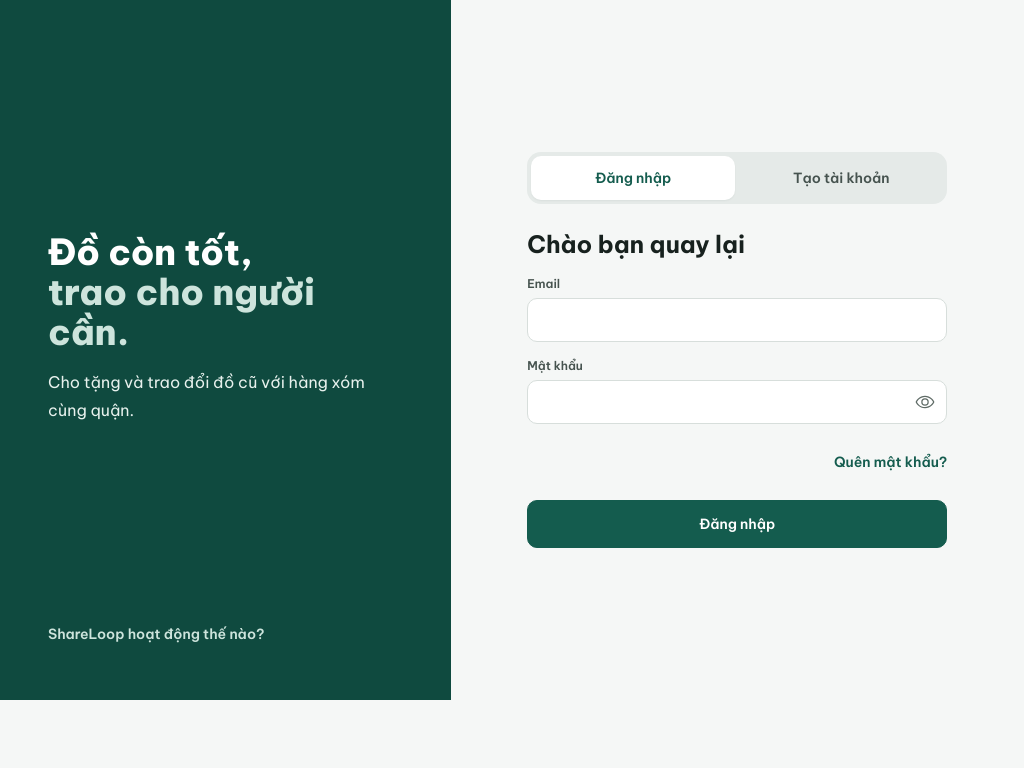
Test: đăng nhập Admin › giữ nguyên màn đăng nhập và kết thúc processing khi xác thực thất bại
Type "admin@shareloop.vn" into the field labelled "Email" at point(737, 320), box x1=527 y1=298 x2=947 y2=342
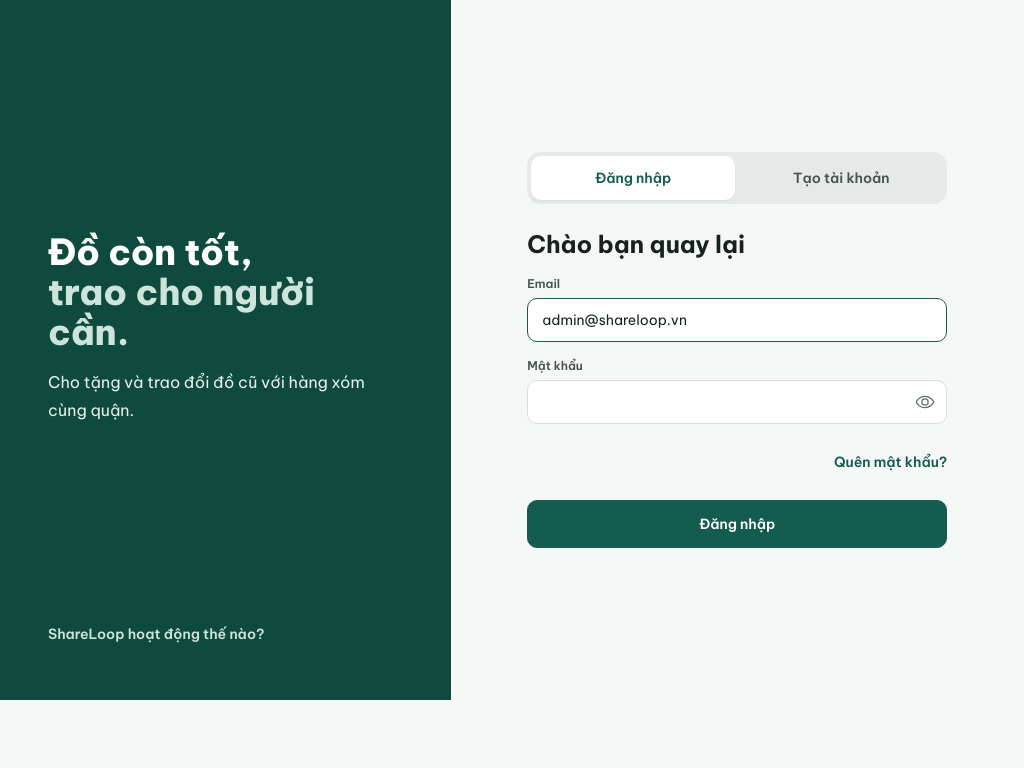
Type "wrong-password" into the password field labelled "Mật khẩu" at point(737, 402), box x1=527 y1=380 x2=947 y2=424
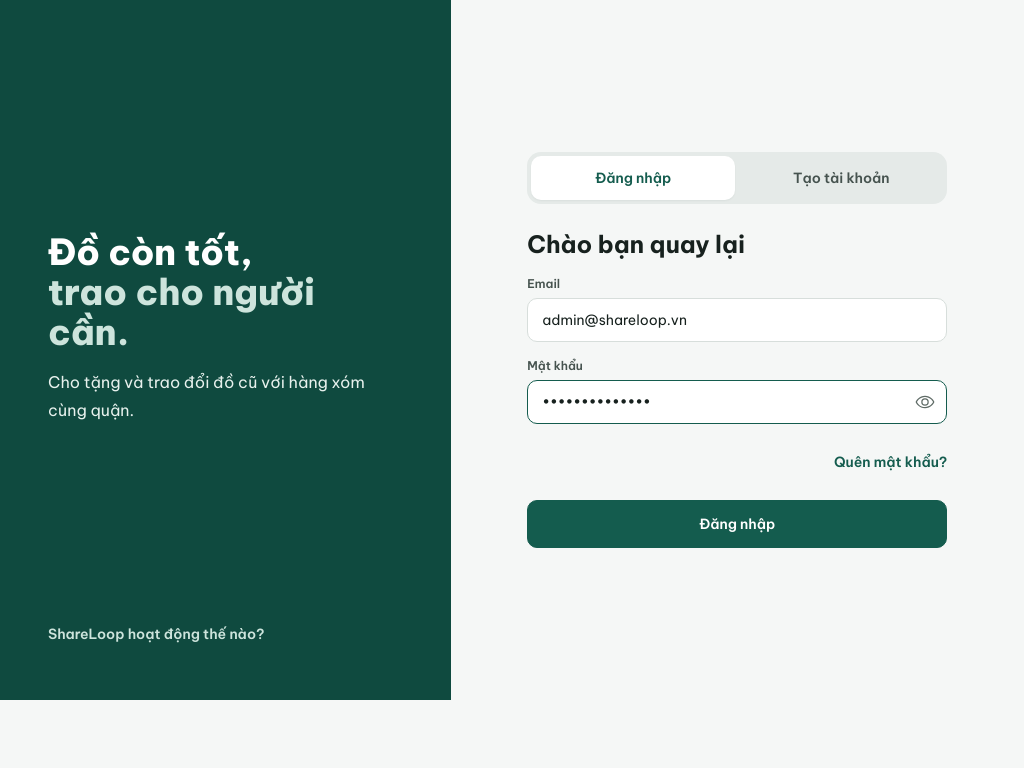
Click the button "Đăng nhập" at point(737, 524), box x1=527 y1=500 x2=947 y2=548
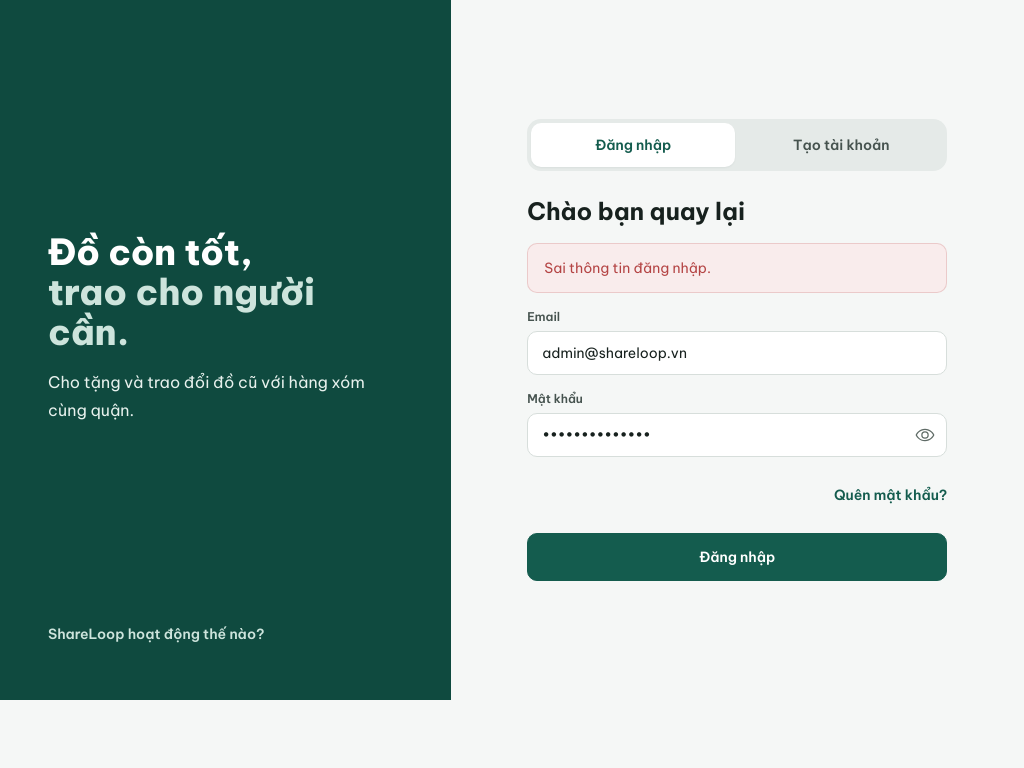
Expected: the button "Đăng nhập" is enabled, x1=527 y1=533 x2=947 y2=581
Now the text "Sai thông tin đăng nhập." is shown, box x1=527 y1=243 x2=947 y2=293
